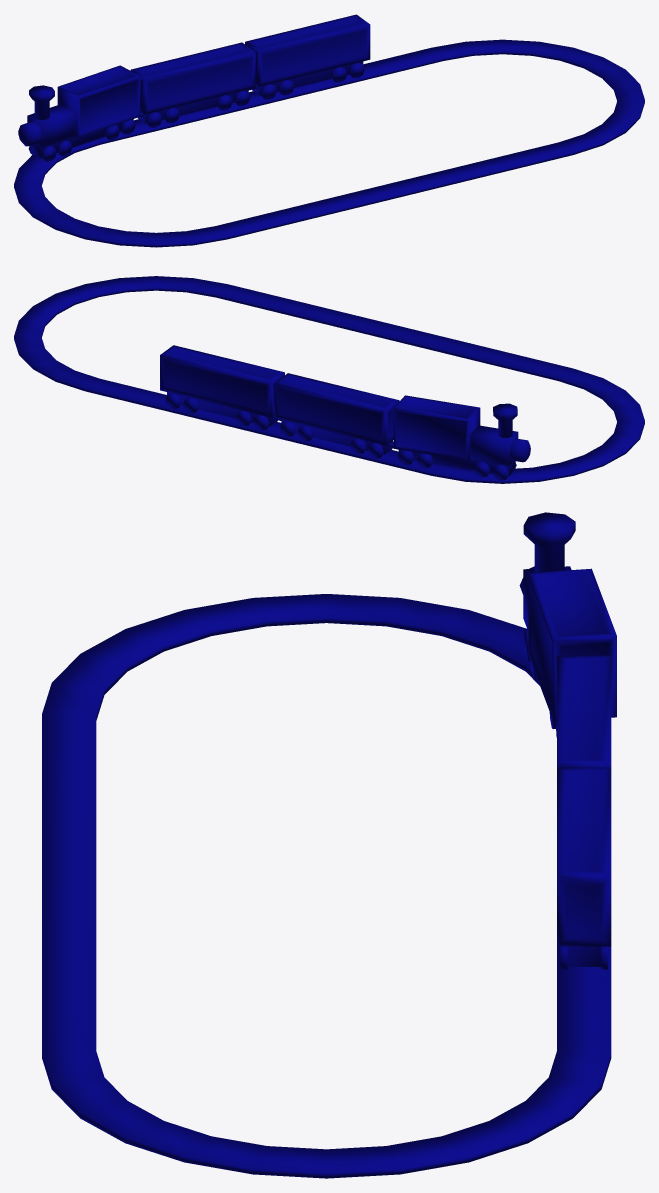
File: TrainSet.fbx
3 renders of one model, top to bottom at view 1: azimuth 30°, elevation 25°; view 2: azimuth 150°, elevation 25°; view 3: azimuth 270°, elevation 25°, orthographic. The views are drawn at different scales.
Parts seen in each view (by area): view 1: Empty_Mesh; view 2: Empty_Mesh; view 3: Empty_Mesh.
Boxes of the visible parts, box(x1,y1,x2,y2) form: Empty_Mesh: box(14, 14, 644, 247); Empty_Mesh: box(14, 276, 644, 483); Empty_Mesh: box(42, 512, 616, 1178).
Size of the model in its own units: 123 by 13.88 by 51.72.
